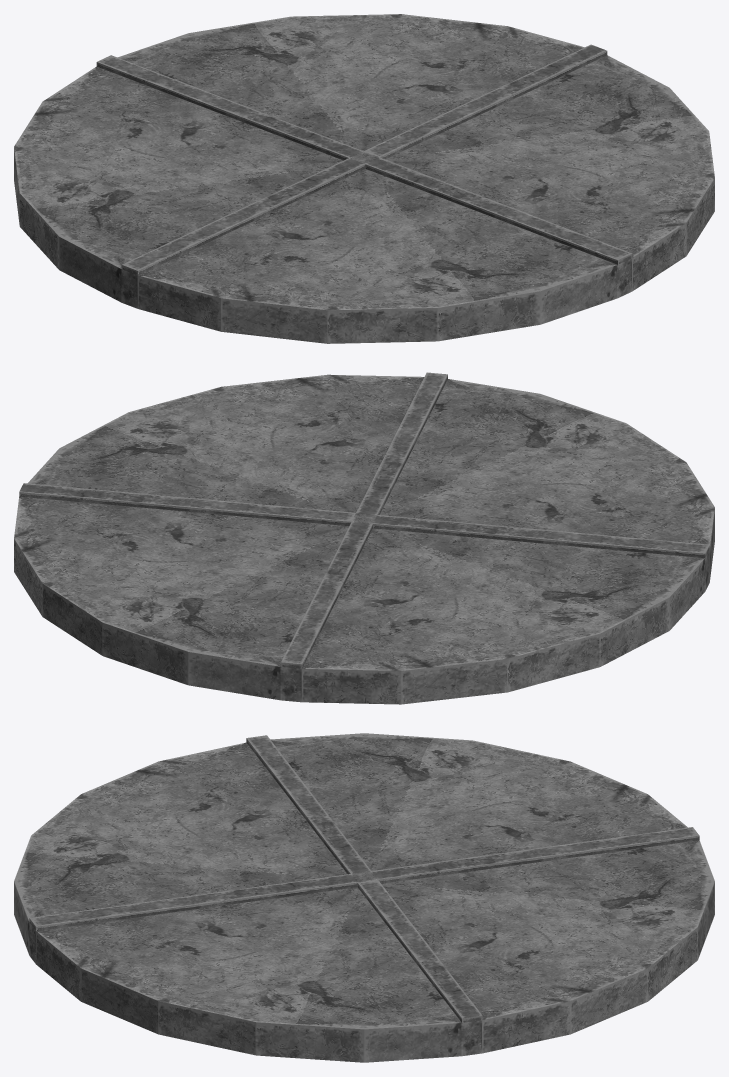
File: texture.fbx
3 views of the same model, one above another, from view 1: azimuth 30°, elevation 25°; view 2: azimuth 150°, elevation 25°; view 3: azimuth 270°, elevation 25° (orthographic).
Visible parts, largest first — view 1: rotationfloor; view 2: rotationfloor; view 3: rotationfloor.
Boxes of the visible parts, bbox=[...] form: rotationfloor: bbox=[14, 14, 714, 343]; rotationfloor: bbox=[14, 372, 714, 704]; rotationfloor: bbox=[14, 733, 714, 1062].
Size of the model in its own units: 30.42 by 1.81 by 30.42.
Materials: 1 (1 with a texture image).
